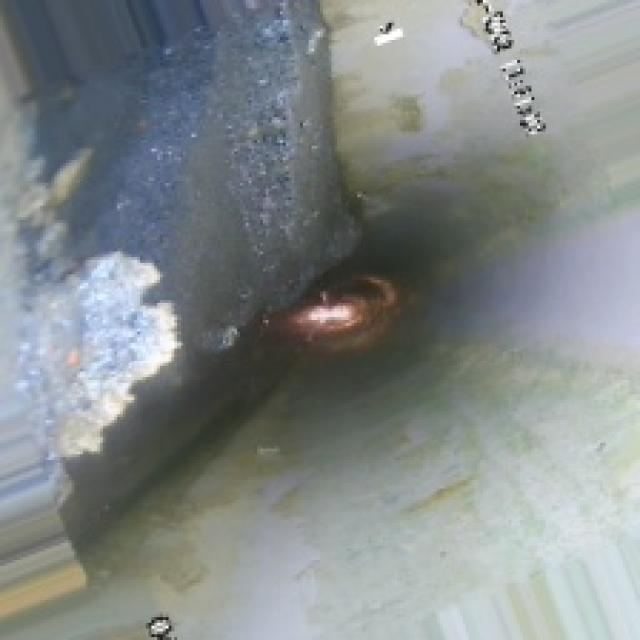sluge accumulation: (117, 6, 346, 440)
